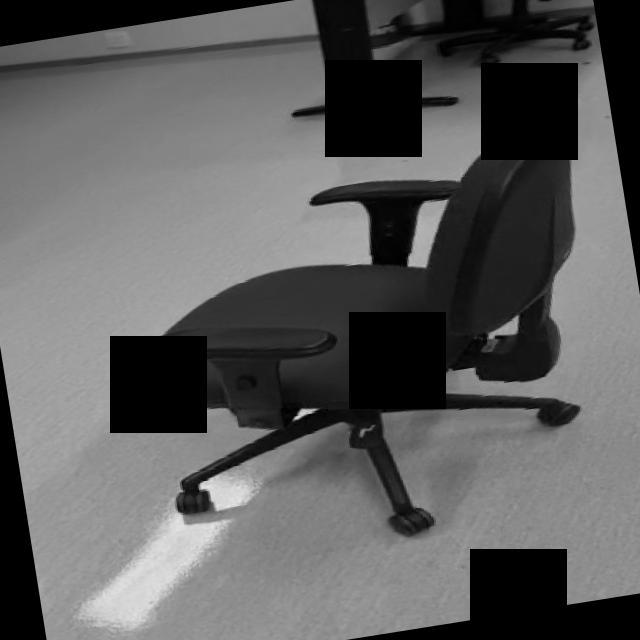chair: (94, 106, 631, 574)
